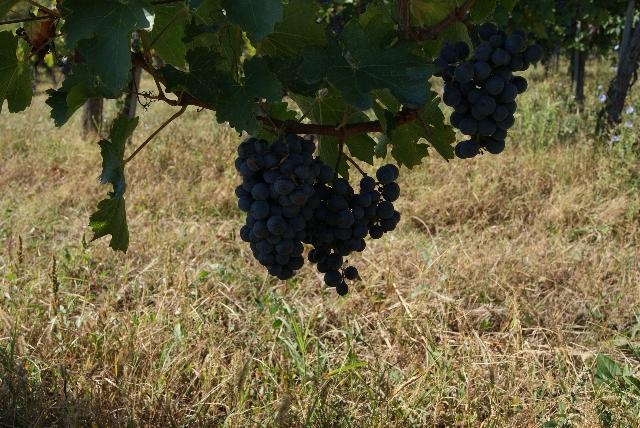grapes: (435, 22, 542, 159), (235, 134, 334, 279), (311, 164, 400, 280)
